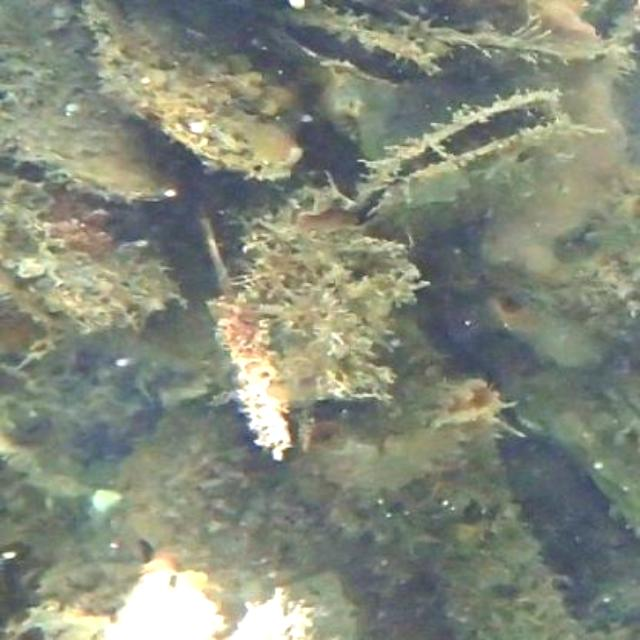Oyster-Closed: (88, 0, 311, 178), (0, 0, 181, 210), (0, 169, 181, 330)
Oyster-Open: (342, 91, 591, 243), (200, 0, 433, 83)
